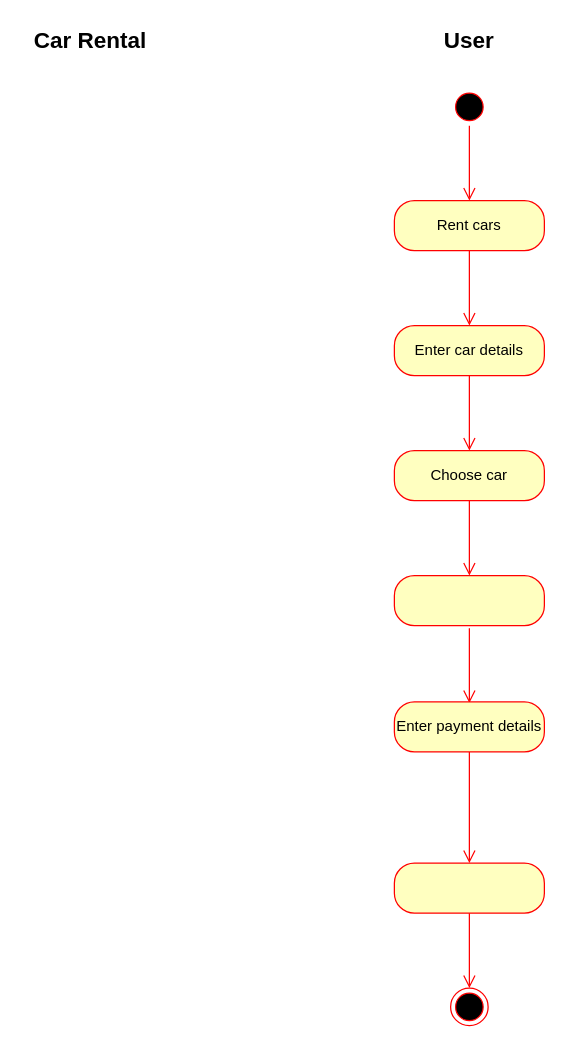
This 566x1048 diagram has some shape labels left out. Each missing label, with the centre of its shape:
Make reservation: point (468, 600)
Pay: point (468, 887)
